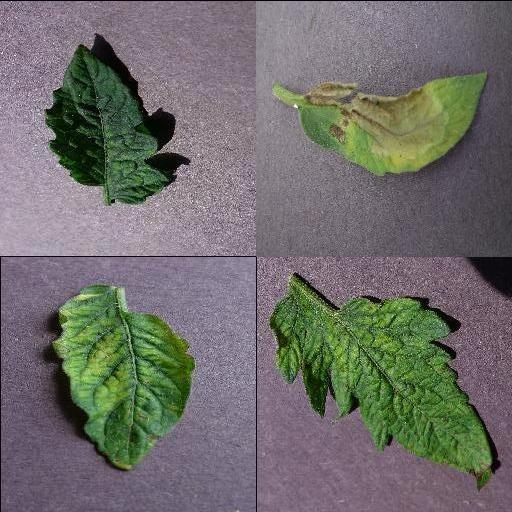Late Blight: (297, 67, 489, 175)
Mosaic Virus: (269, 291, 495, 491), (49, 283, 199, 471), (44, 42, 173, 206)
